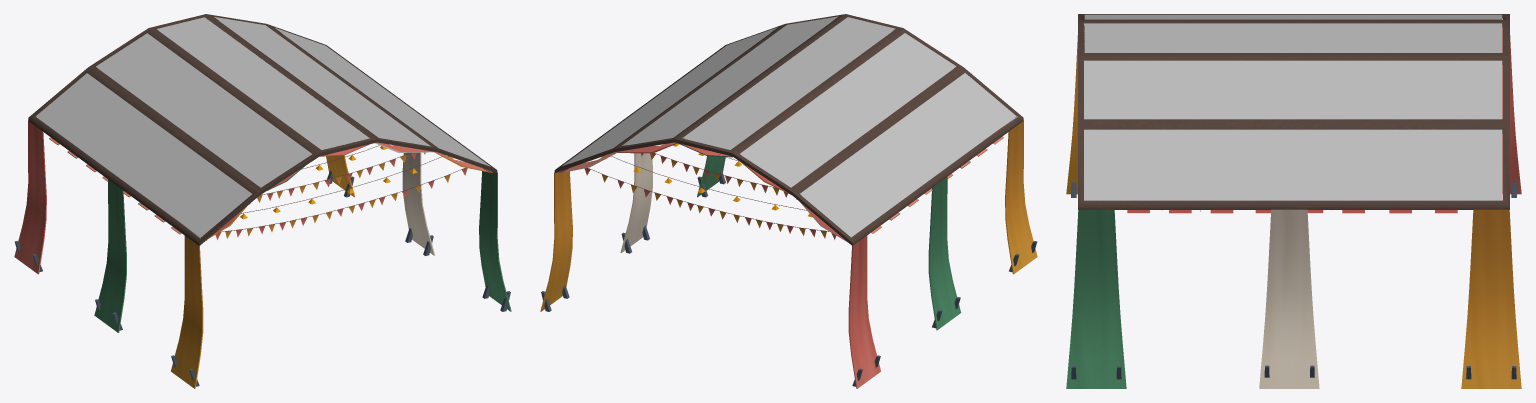
The model's file is medieval-fair__Roof.glb.
3 views of the same model, side by side, from view 1: azimuth 30°, elevation 25°; view 2: azimuth 150°, elevation 25°; view 3: azimuth 270°, elevation 25° (orthographic). The views are drawn at different scales.
Parts seen in each view (by area): view 1: Roof; view 2: Roof; view 3: Roof.
Part boxes in pixels (x1,y1,x2,y2): Roof: (14, 14, 511, 388); Roof: (540, 14, 1037, 388); Roof: (1066, 14, 1521, 388).
Size of what is drawn, in the model's own units: 41.8 by 25.03 by 40.77.
Materials: 5 (4 with a texture image).
